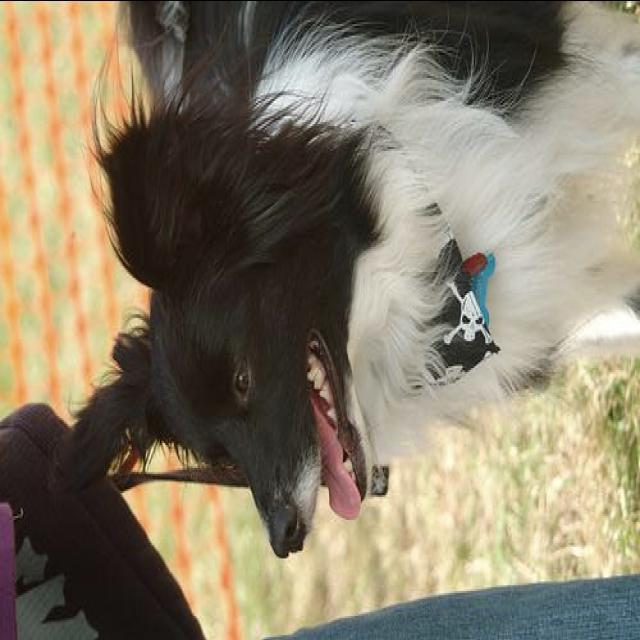papillon: (44, 0, 637, 559)
